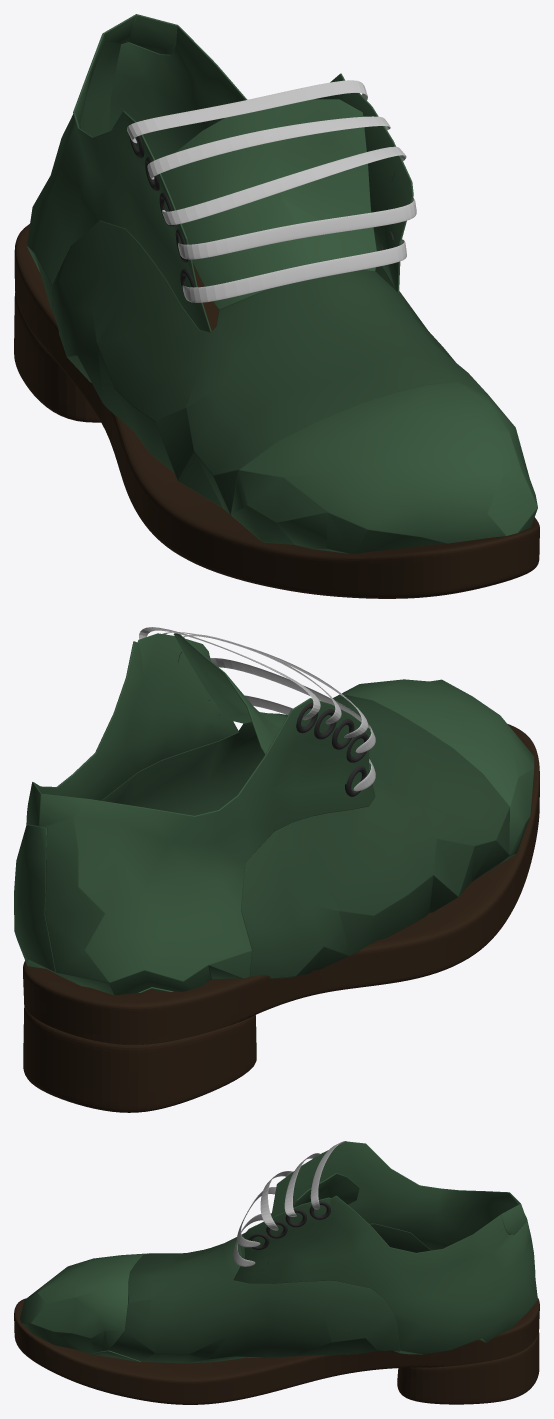
File: za1ot3derecha.fbx
3 renders of one model, top to bottom at view 1: azimuth 30°, elevation 25°; view 2: azimuth 150°, elevation 25°; view 3: azimuth 270°, elevation 25°, orthographic. The views are drawn at different scales.
Visible parts, largest first — view 1: ZAPATO1_3, Plane, Plane.002, Plane.005, Plane.001, Plane.004, Plane.003; view 2: ZAPATO1_3, Plane, Plane.002, Plane.004, Plane.005, Plane.001; view 3: ZAPATO1_3, Plane, Plane.001, Plane.004, Plane.003, Plane.002, Plane.005.
Part boxes in pixels (bbox=[...]): ZAPATO1_3: bbox=[27, 14, 537, 553]; Plane: bbox=[14, 224, 539, 598]; Plane.002: bbox=[178, 197, 416, 259]; Plane.005: bbox=[182, 239, 406, 302]; Plane.001: bbox=[162, 146, 406, 224]; Plane.004: bbox=[127, 80, 367, 143]; Plane.003: bbox=[147, 116, 390, 179]; ZAPATO1_3: bbox=[14, 633, 534, 995]; Plane: bbox=[23, 724, 539, 1112]; Plane.002: bbox=[210, 658, 375, 753]; Plane.004: bbox=[139, 627, 320, 720]; Plane.005: bbox=[244, 695, 375, 791]; Plane.001: bbox=[183, 634, 367, 737]; ZAPATO1_3: bbox=[19, 1141, 537, 1363]; Plane: bbox=[14, 1298, 539, 1404]; Plane.001: bbox=[260, 1171, 293, 1230]; Plane.004: bbox=[310, 1141, 347, 1209]; Plane.003: bbox=[284, 1153, 320, 1216]; Plane.002: bbox=[237, 1187, 276, 1247]; Plane.005: bbox=[233, 1213, 271, 1266].
Bounding box in the file's own units: 174 × 204 × 447.
